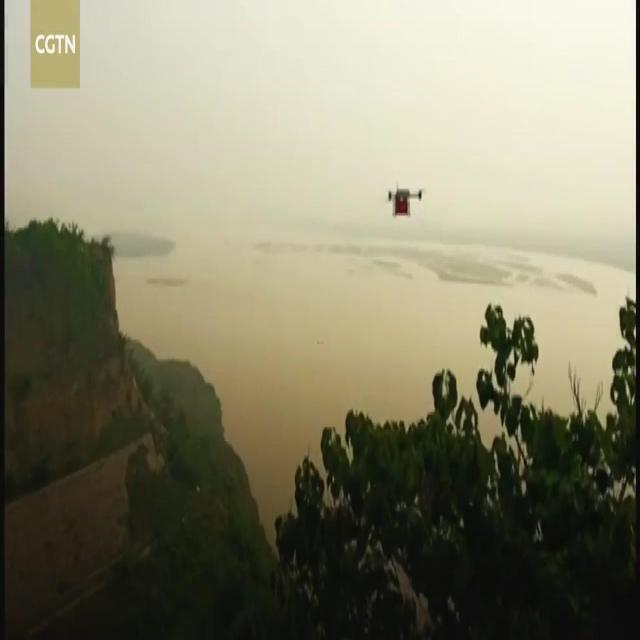drone: (385, 184, 424, 221)
